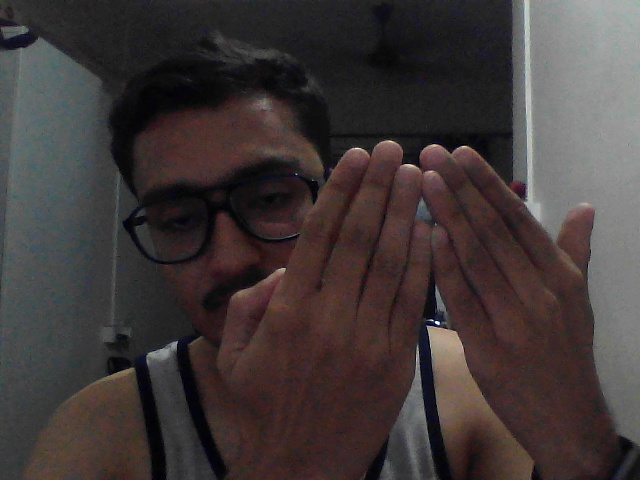Thank You: (219, 119, 635, 480)
